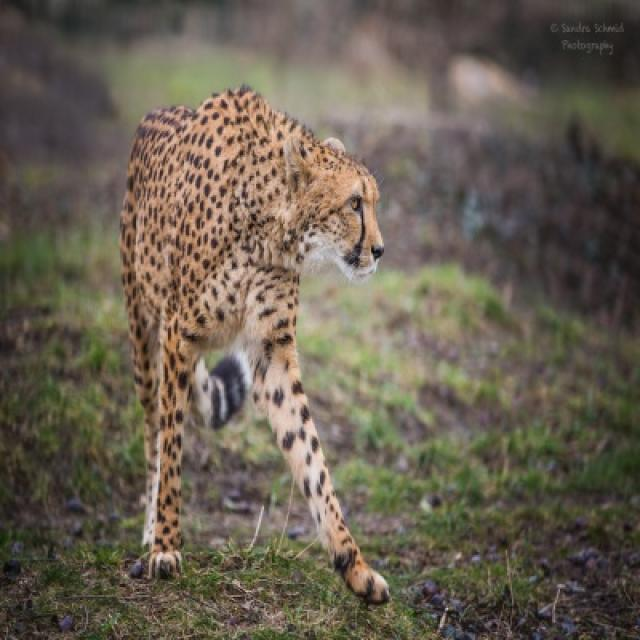Cheetah: (120, 86, 387, 603)
